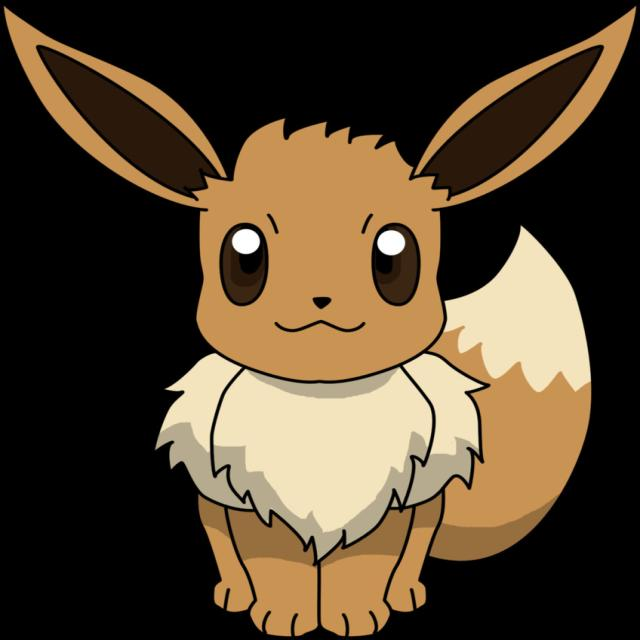Eevee: (150, 98, 553, 640)
